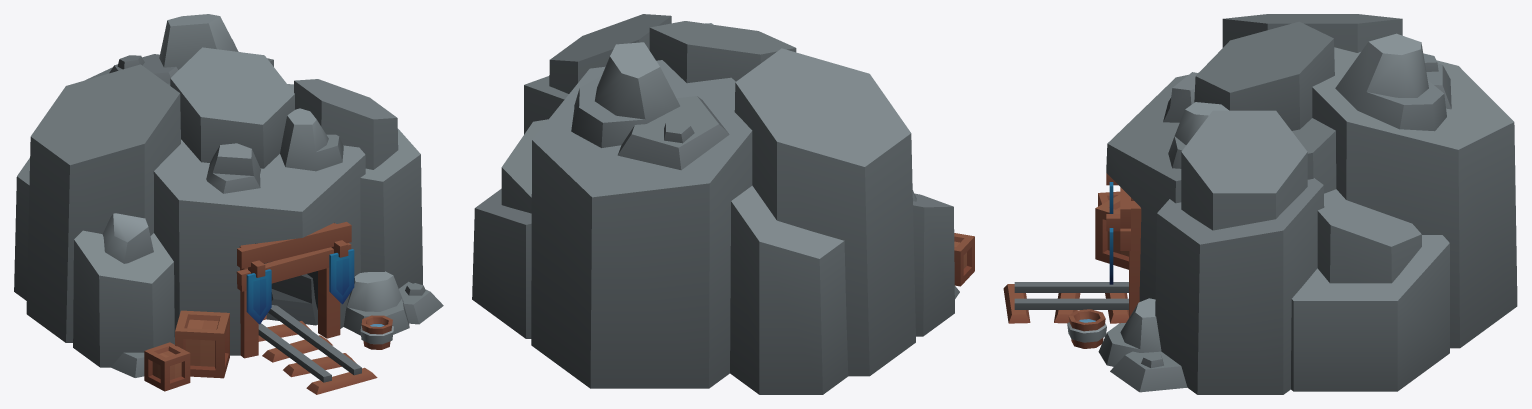
The model's file is mine-human.glb.
3 views of the same model, side by side, from view 1: azimuth 30°, elevation 25°; view 2: azimuth 150°, elevation 25°; view 3: azimuth 270°, elevation 25° (orthographic). The views are drawn at different scales.
Parts seen in each view (by area): view 1: mine-human; view 2: mine-human; view 3: mine-human.
Part boxes in pixels (box(x1,y1,x2,y2)): mine-human: box(14, 14, 443, 394); mine-human: box(472, 14, 974, 394); mine-human: box(1003, 14, 1517, 394).
Bounding box in the file's own units: 1.61 × 1.14 × 1.92.
